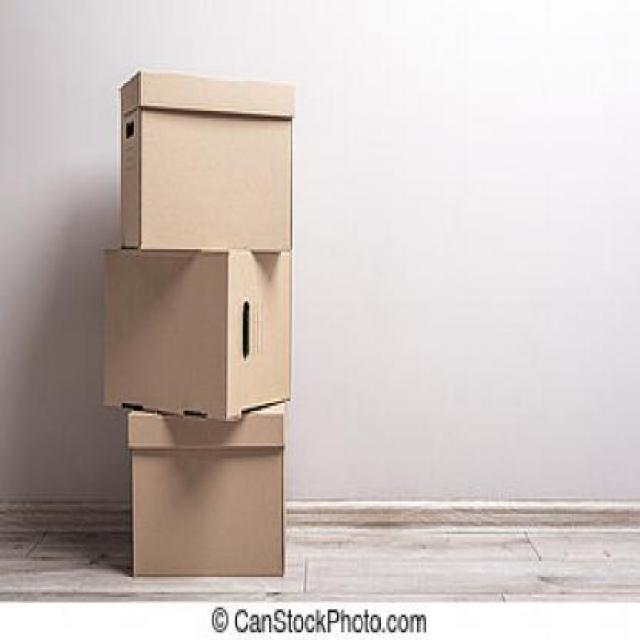box: (106, 70, 294, 256), (105, 238, 292, 414), (120, 408, 294, 582)
